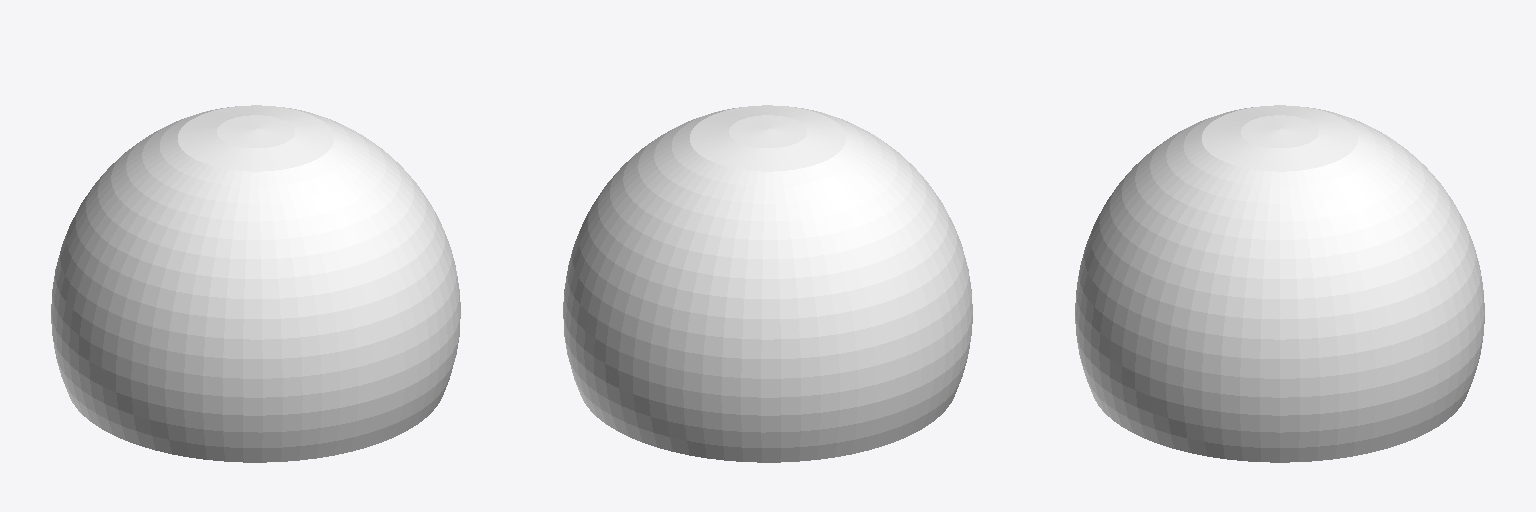
Rendered from skydome.obj.
The picture shows the model from 3 angles: view 1: azimuth 30°, elevation 25°; view 2: azimuth 150°, elevation 25°; view 3: azimuth 270°, elevation 25°; orthographic projection.
Parts seen in each view (by area): view 1: sphere2; view 2: sphere2; view 3: sphere2.
Boxes of the visible parts, x1=… form: sphere2: x1=51, y1=105, x2=460, y2=462; sphere2: x1=563, y1=105, x2=972, y2=462; sphere2: x1=1075, y1=105, x2=1484, y2=462.
Bounding box in the file's own units: 1.98 × 1.35 × 1.98.